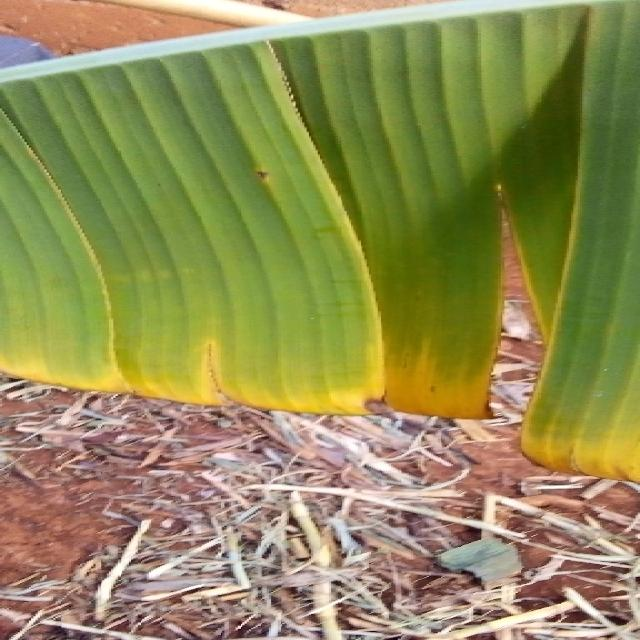Cordana: (0, 48, 640, 478)
